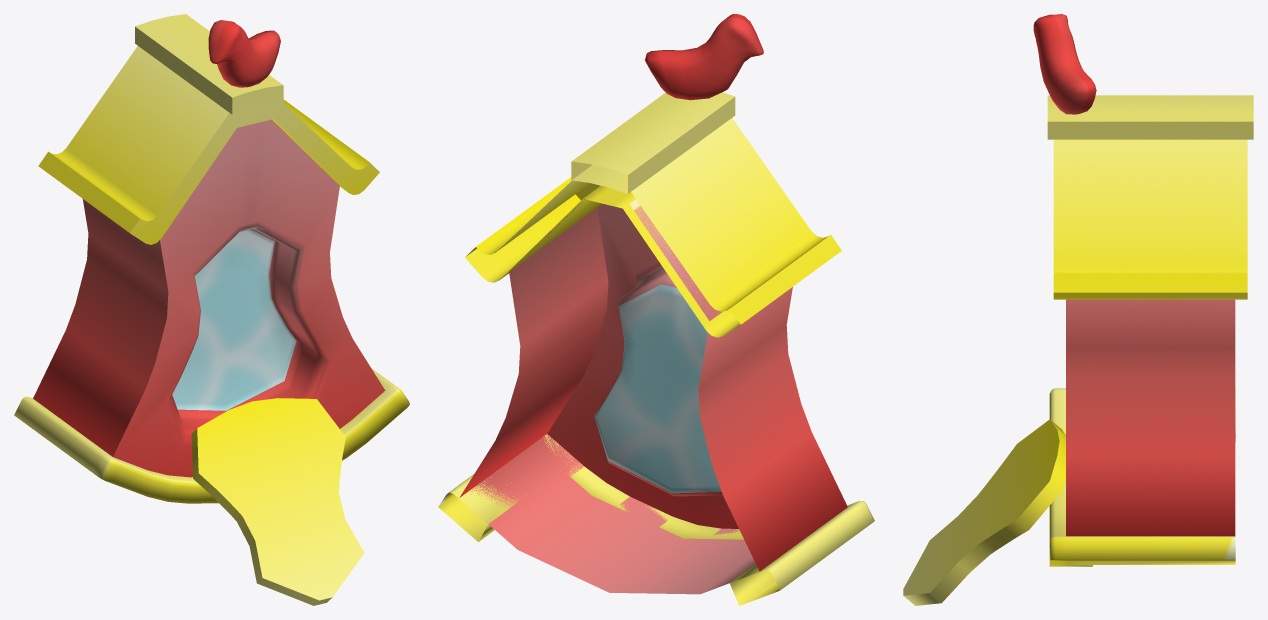
File: Mailbox_E_red.fbx
The picture shows the model from 3 angles, left to right: view 1: azimuth 30°, elevation 25°; view 2: azimuth 150°, elevation 25°; view 3: azimuth 270°, elevation 25°; orthographic projection. The views are drawn at different scales.
Parts seen in each view (by area): view 1: MailboxE_red; view 2: MailboxE_red; view 3: MailboxE_red.
Part boxes in pixels (x1,y1,x2,y2): MailboxE_red: (14, 14, 409, 605); MailboxE_red: (438, 14, 874, 605); MailboxE_red: (903, 14, 1253, 605).
Size of the model in its own units: 1.31 by 1.21 by 2.19.
